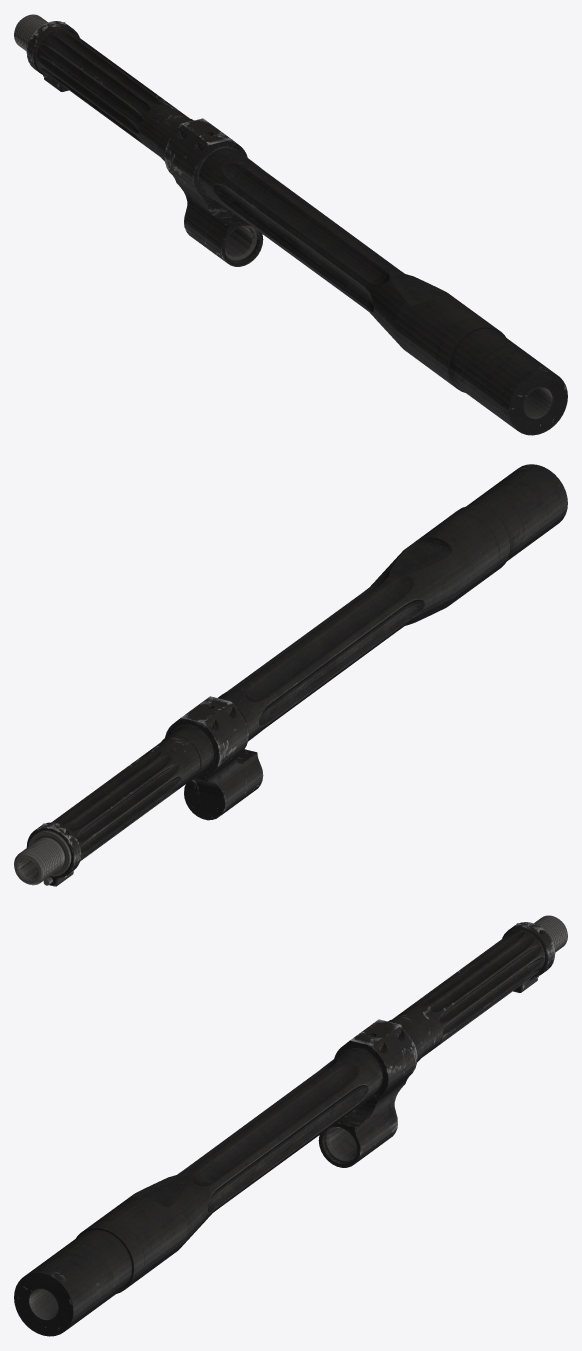
3 views of the same model, one above another, from view 1: azimuth 30°, elevation 25°; view 2: azimuth 150°, elevation 25°; view 3: azimuth 330°, elevation 25° (orthographic).
Visible parts, largest first — view 1: TW_67d4178bffb910d21f04720a_PZ_Import; view 2: TW_67d4178bffb910d21f04720a_PZ_Import; view 3: TW_67d4178bffb910d21f04720a_PZ_Import.
Boxes of the visible parts, x1,y1,x2,y2 form: TW_67d4178bffb910d21f04720a_PZ_Import: (14,14,567,435); TW_67d4178bffb910d21f04720a_PZ_Import: (14,464,567,886); TW_67d4178bffb910d21f04720a_PZ_Import: (14,915,567,1336).
Size of the model in its own units: 0.025 by 0.3534 by 0.0428.
Materials: 1 (1 with a texture image).
